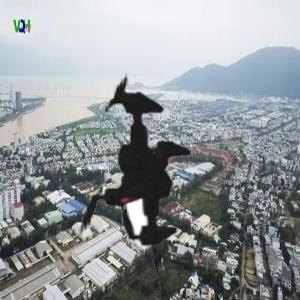drone: (1, 42, 254, 295)
